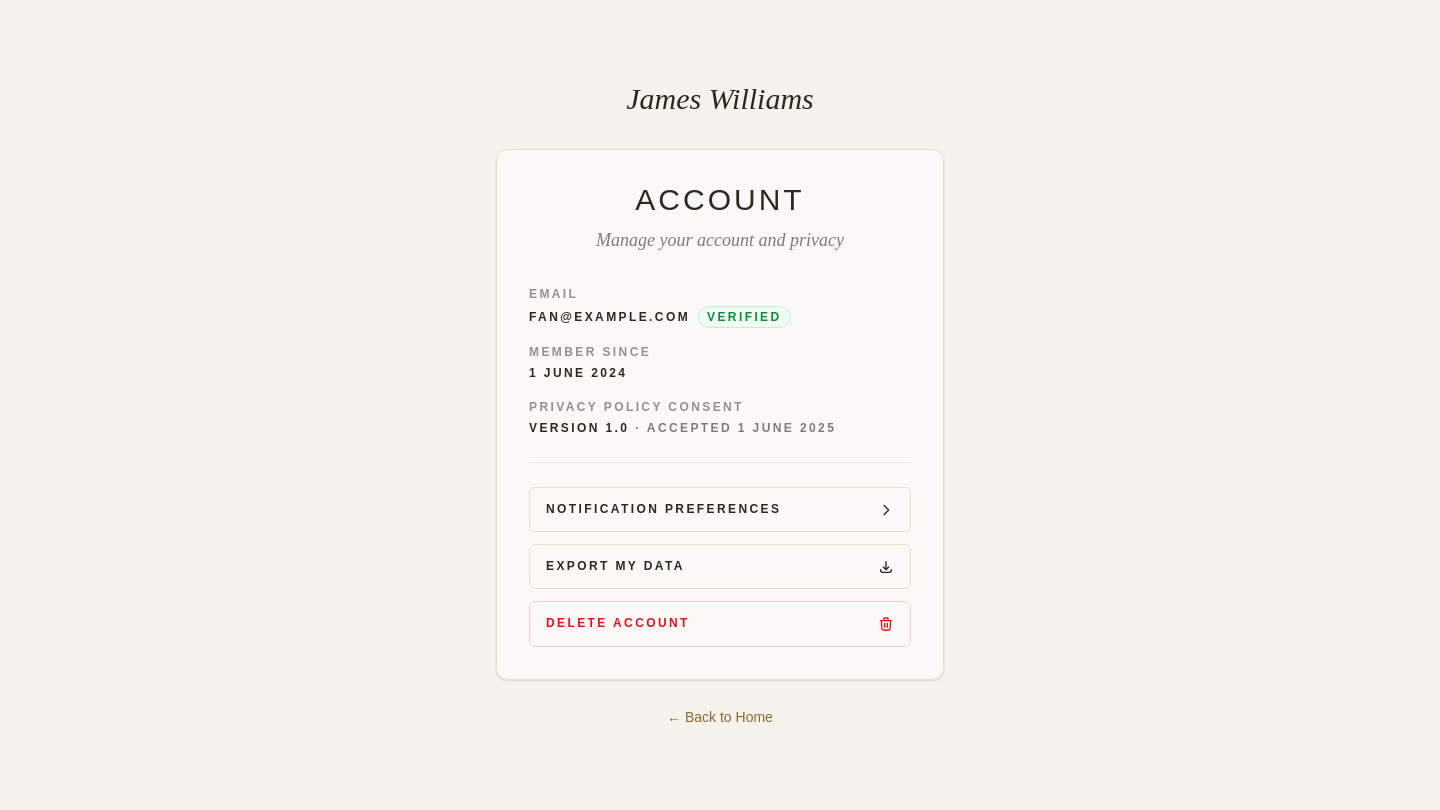
Test: DeleteAccountDialog › closes dialog on cancel
Expected: the text "Delete Account" is shown, x1=546 y1=614 x2=690 y2=634
Click the button "Delete Account". click: click(618, 623)
box: x1=529 y1=602 x2=911 y2=647
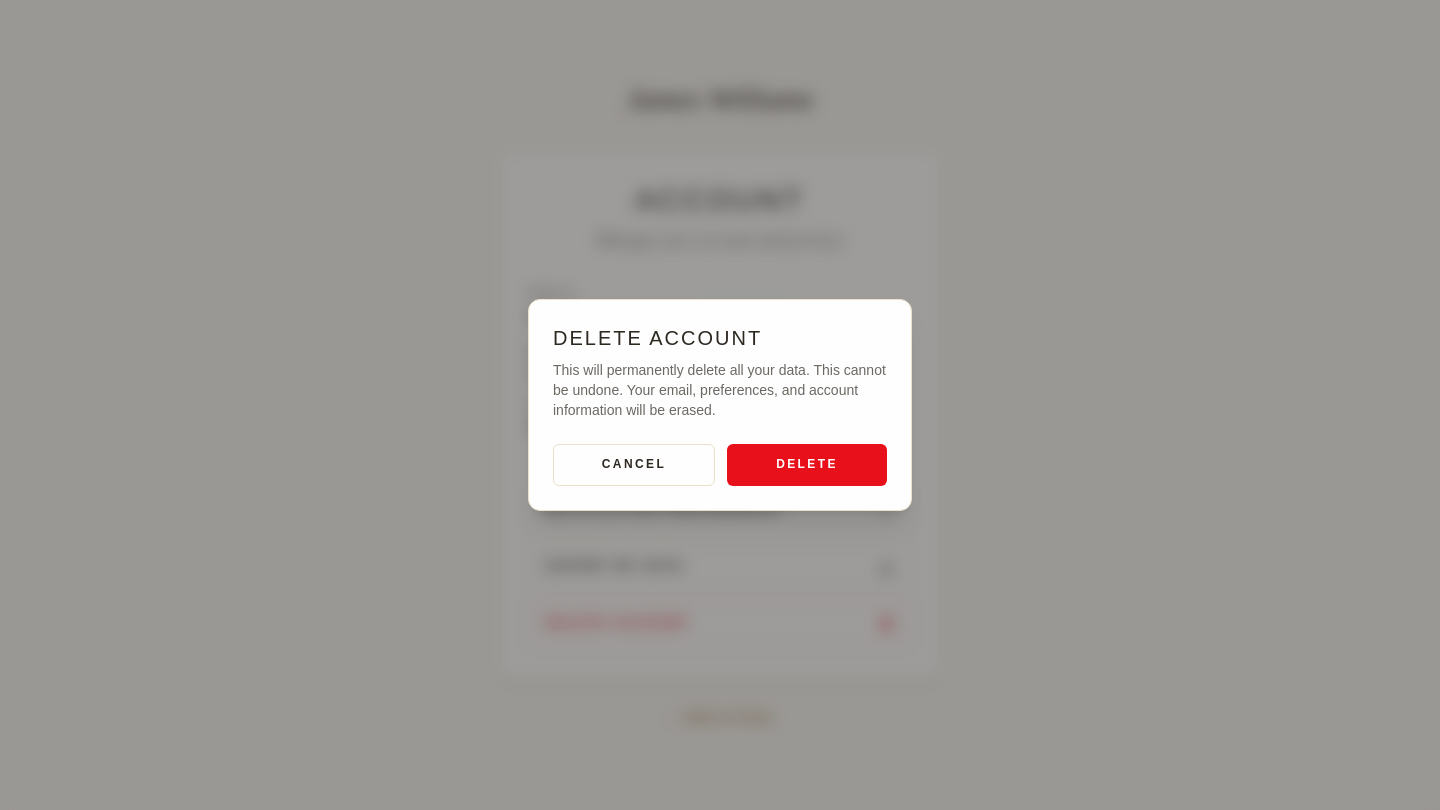
Expected: the dialog is shown
Click the button "Cancel". click: click(634, 465)
box: x1=553 y1=444 x2=715 y2=486
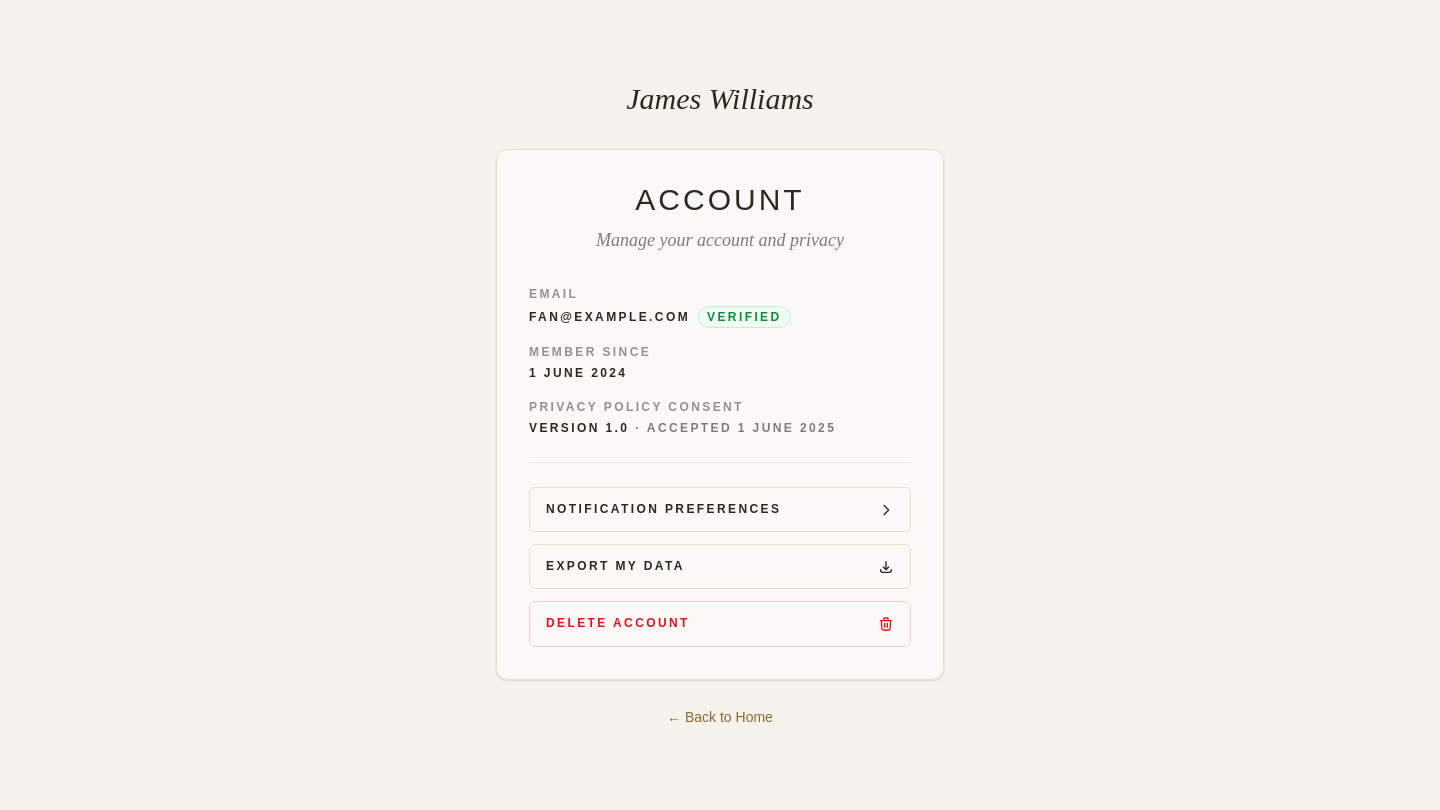
Expected: the dialog is gone
